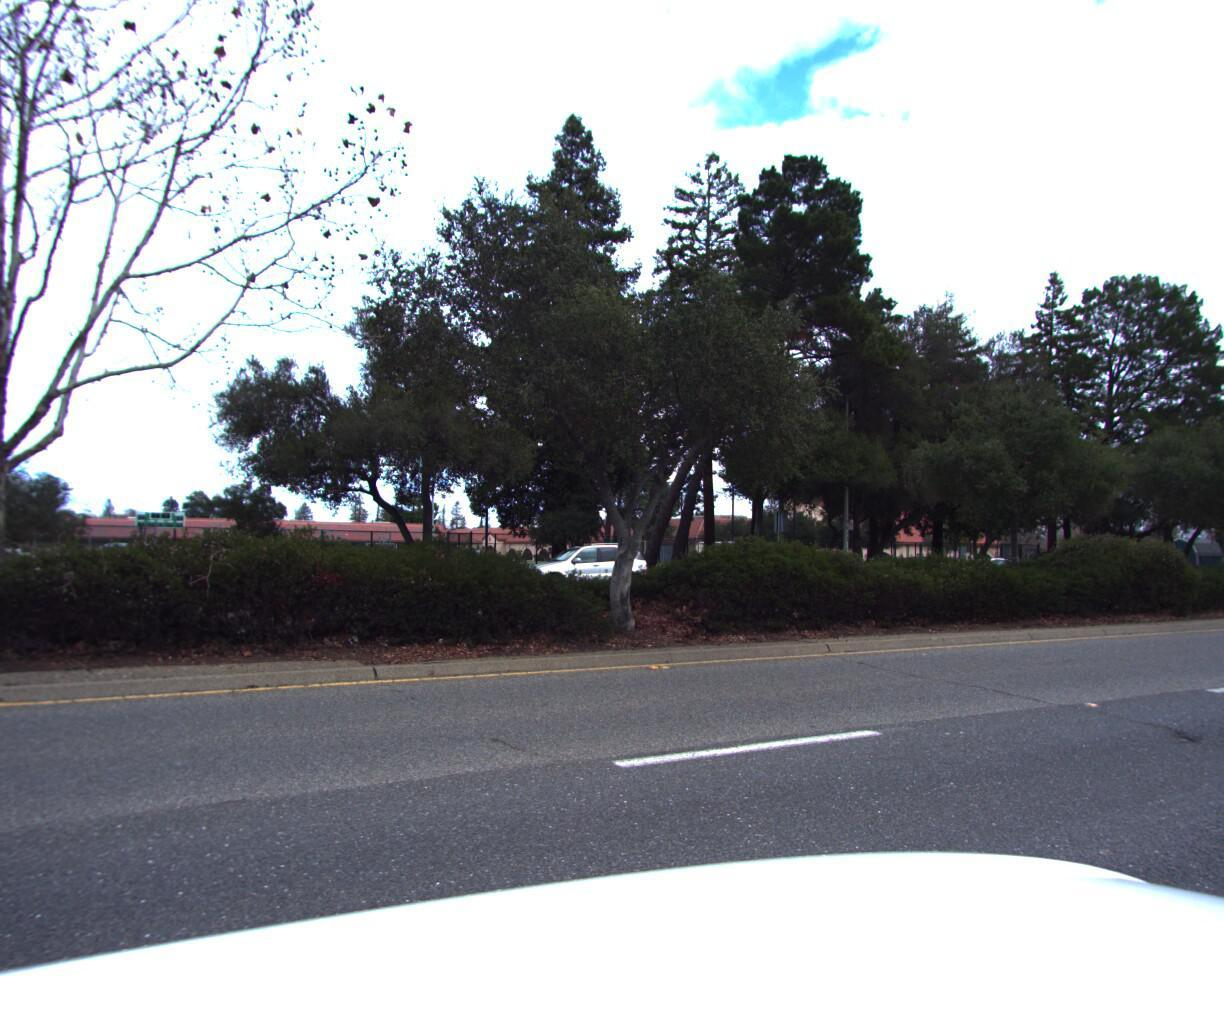car: (30, 540, 203, 603), (504, 535, 654, 599)
